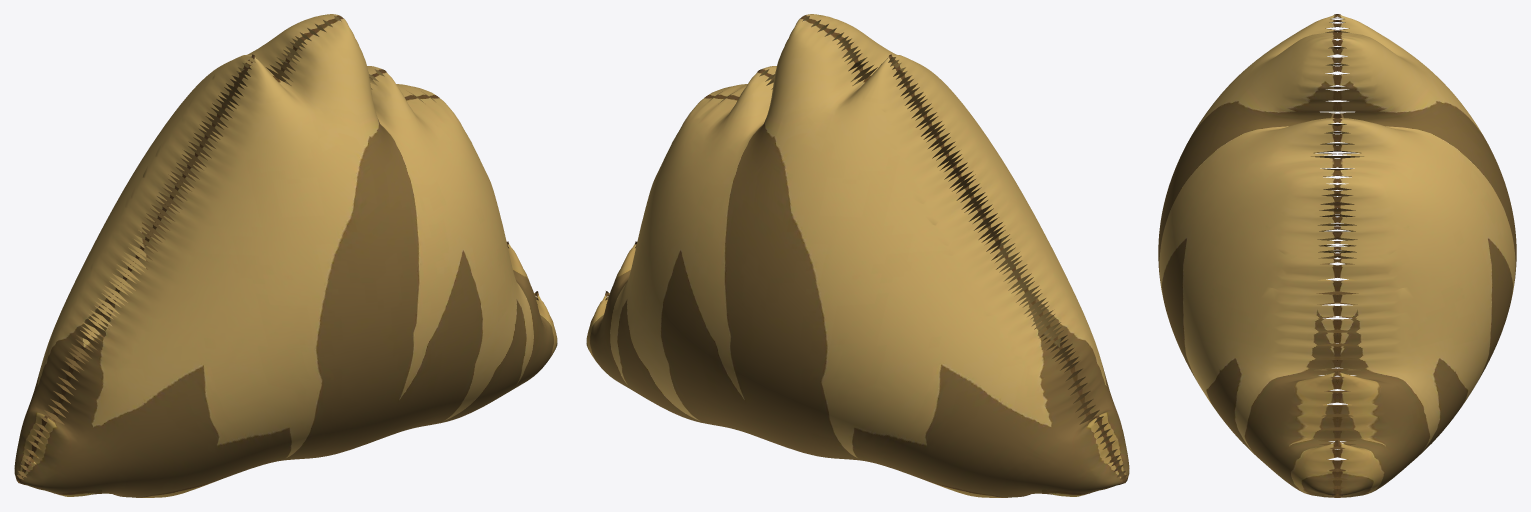
The model's file is ochre_spires.glb.
3 views of the same model, side by side, from view 1: azimuth 30°, elevation 25°; view 2: azimuth 150°, elevation 25°; view 3: azimuth 270°, elevation 25° (orthographic). The views are drawn at different scales.
Parts seen in each view (by area): view 1: ochre_spires; view 2: ochre_spires; view 3: ochre_spires.
Part boxes in pixels (x1=…): ochre_spires: x1=14, y1=14, x2=557, y2=497; ochre_spires: x1=586, y1=14, x2=1129, y2=497; ochre_spires: x1=1158, y1=14, x2=1516, y2=497.
Bounding box in the file's own units: 0.9815 × 0.7438 × 0.5964.
Materials: 1 (1 with a texture image).
